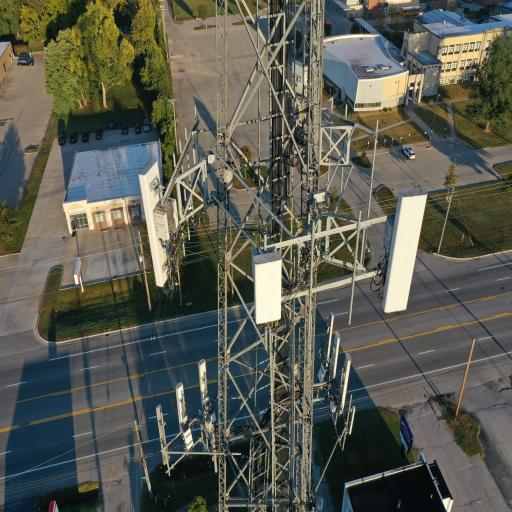supporting_tower: (135, 0, 435, 512)
